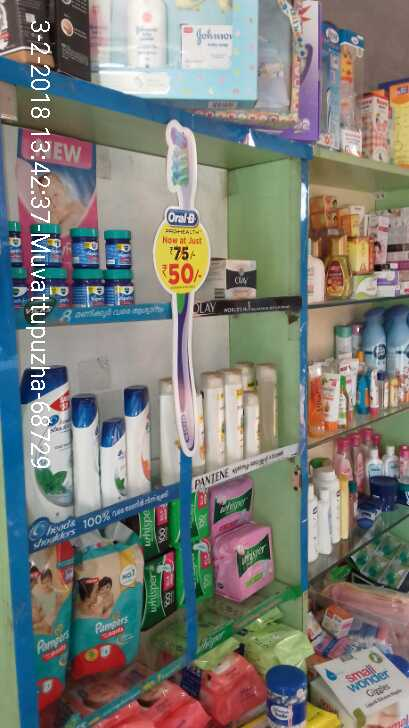vicks: (6, 220, 135, 316)
